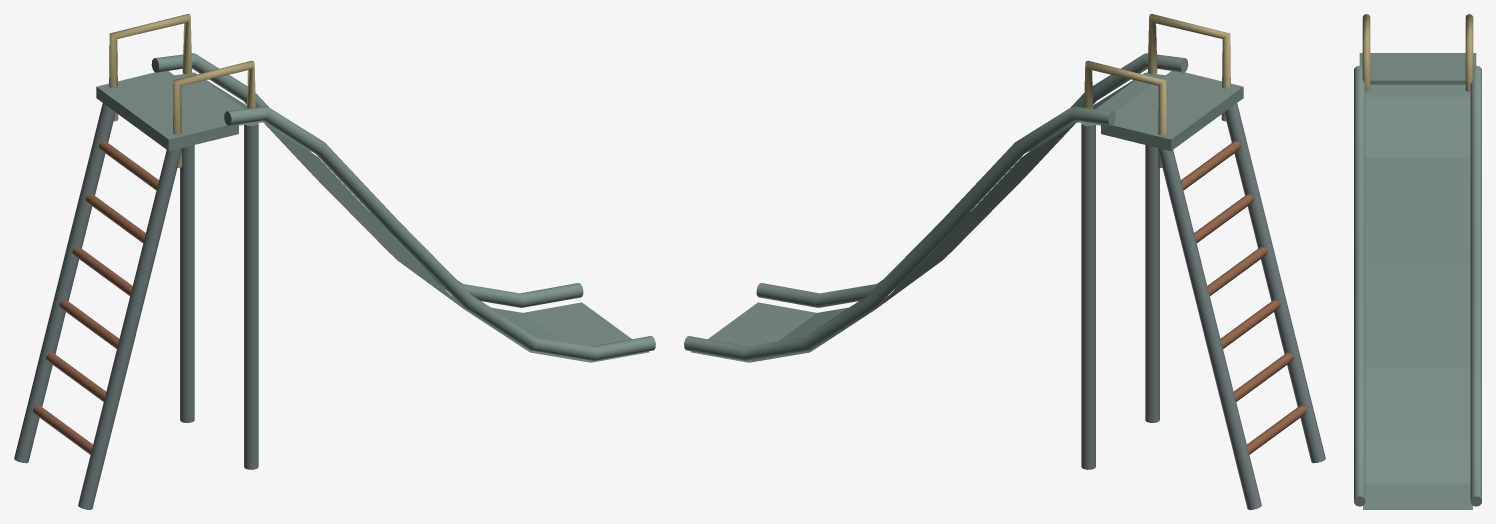
The model's file is 075_abandoned_playground_slide.glb.
3 renders of one model, left to right at view 1: azimuth 30°, elevation 25°; view 2: azimuth 150°, elevation 25°; view 3: azimuth 270°, elevation 25°, orthographic. The views are drawn at different scales.
Visible parts, largest first — view 1: PRP-075_side_rims, PRP-075_ladder, PRP-075_supports, Slide_curved_sheet, Top_platform, PRP-075_rungs, PRP-075_handles; view 2: PRP-075_side_rims, PRP-075_ladder, PRP-075_supports, Slide_curved_sheet, Top_platform, PRP-075_rungs, PRP-075_handles; view 3: Slide_curved_sheet, PRP-075_side_rims, Top_platform, PRP-075_handles.
Part boxes in pixels (bbox=[...]): PRP-075_side_rims: bbox=[151, 53, 655, 360]; PRP-075_ladder: bbox=[14, 103, 182, 509]; PRP-075_supports: bbox=[180, 73, 258, 469]; Slide_curved_sheet: bbox=[175, 72, 649, 362]; Top_platform: bbox=[96, 71, 238, 150]; PRP-075_rungs: bbox=[33, 141, 158, 454]; PRP-075_handles: bbox=[109, 14, 255, 167]; PRP-075_side_rims: bbox=[684, 53, 1188, 360]; PRP-075_ladder: bbox=[1157, 103, 1325, 509]; PRP-075_supports: bbox=[1081, 73, 1159, 469]; Slide_curved_sheet: bbox=[690, 72, 1164, 362]; Top_platform: bbox=[1101, 71, 1243, 150]; PRP-075_rungs: bbox=[1181, 141, 1306, 454]; PRP-075_handles: bbox=[1084, 14, 1230, 167]; Slide_curved_sheet: bbox=[1363, 84, 1472, 509]; PRP-075_side_rims: bbox=[1354, 65, 1481, 506]; Top_platform: bbox=[1359, 53, 1476, 84]; PRP-075_handles: bbox=[1362, 14, 1473, 91].
Bounding box in the file's own units: 3.09 × 2.11 × 0.7466.
